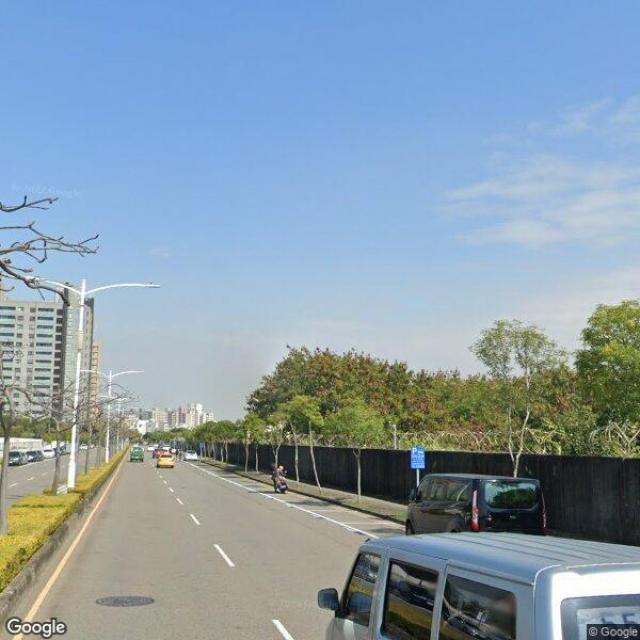Legalparking: (405, 474, 544, 534), (1, 428, 81, 467)
illegalparking: (318, 532, 639, 639), (272, 468, 285, 492), (156, 450, 174, 467)
